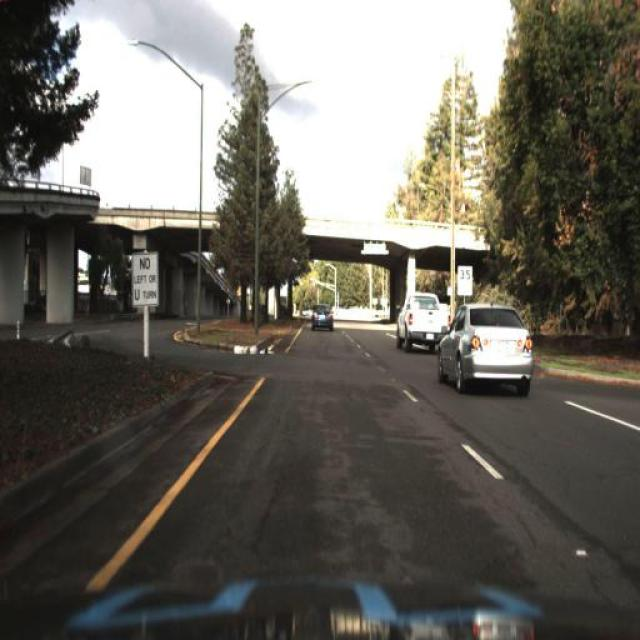car: (433, 297, 545, 393), (393, 288, 451, 358), (307, 300, 334, 335)
